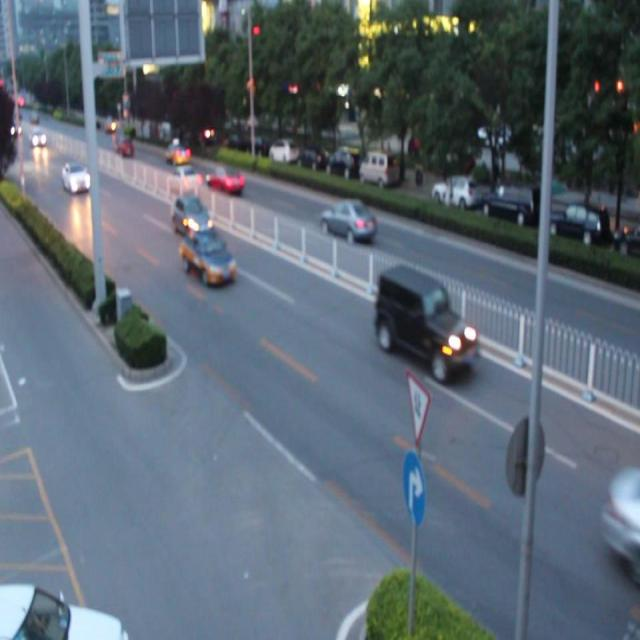car: (377, 269, 474, 376), (1, 583, 127, 640), (602, 465, 640, 573), (181, 231, 236, 282), (319, 198, 376, 239), (172, 193, 212, 234), (206, 164, 243, 195), (62, 165, 92, 192), (170, 168, 202, 191), (164, 145, 190, 164)
